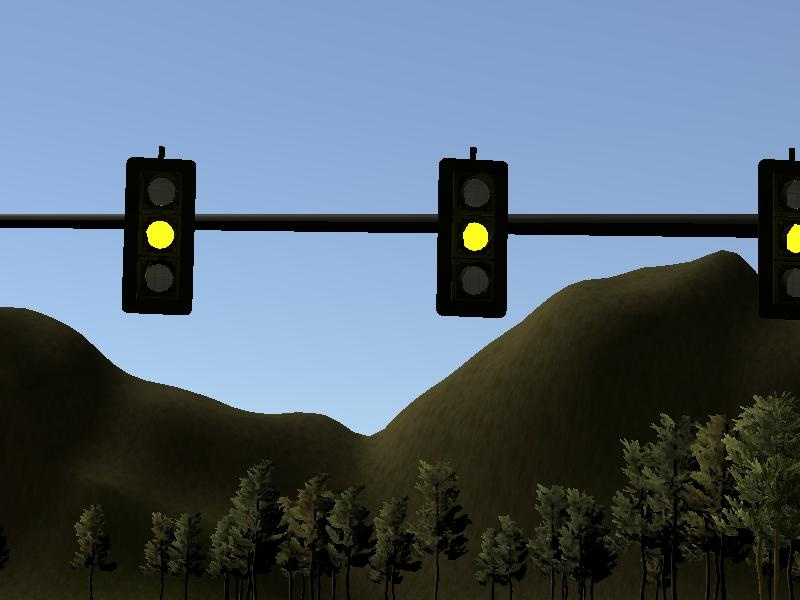yellow: (114, 140, 203, 320), (431, 140, 516, 322), (749, 147, 800, 322)
